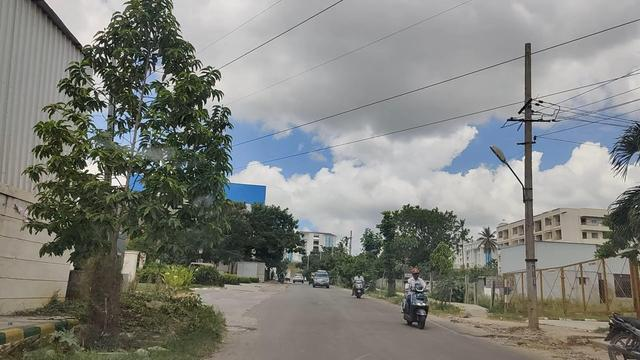RoadDamages: (226, 312, 274, 344)
